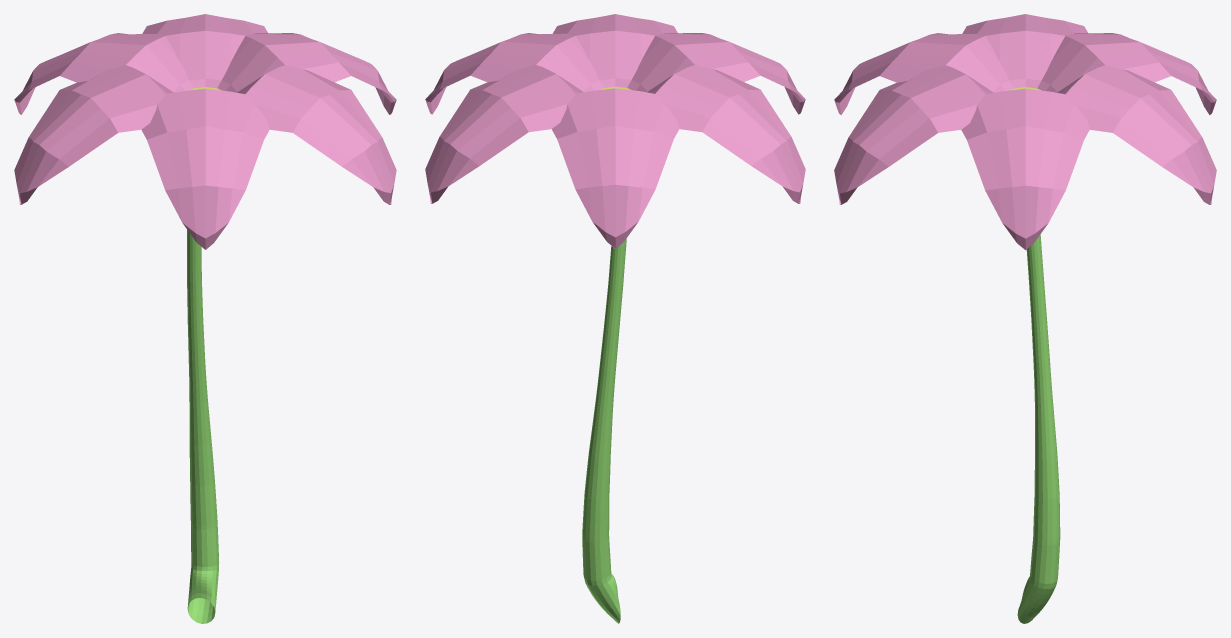
The model's file is flower1.fbx.
The picture shows the model from 3 angles, left to right: view 1: azimuth 30°, elevation 25°; view 2: azimuth 150°, elevation 25°; view 3: azimuth 270°, elevation 25°; orthographic projection.
Visible parts, largest first — view 1: Petal, stem; view 2: Petal, stem; view 3: Petal, stem.
Part boxes in pixels (x1,y1,x2,y2): Petal: (14,14,396,249); stem: (187,230,219,623); Petal: (425,14,805,248); stem: (582,238,626,623); Petal: (834,14,1216,249); stem: (1017,234,1060,623).
Bounding box in the file's own units: 482 × 699 × 429.
